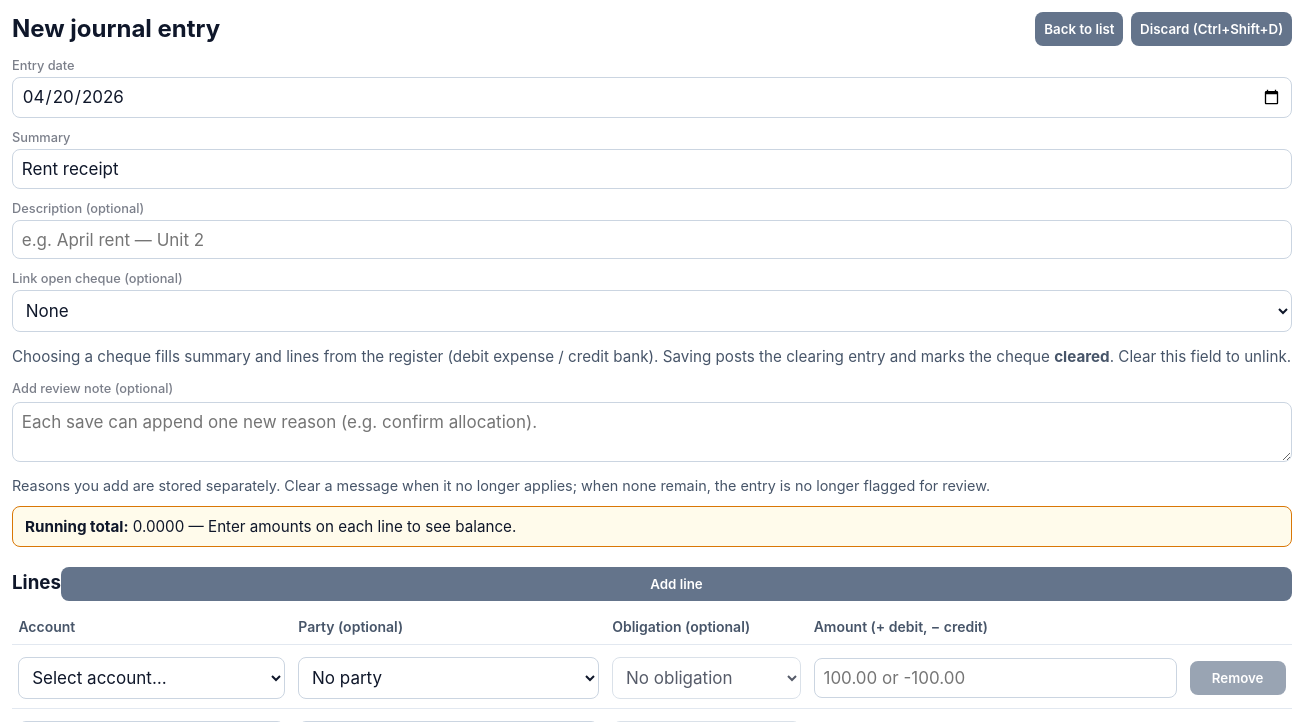
Scenario: JournalEntryForm › manual obligation settlement (#272) › locks account and party while obligation is set
Select "Rental income" in the dropdown named "Account for line 1781842148458-v530ew2": (152, 678) x1=18 y1=657 x2=286 y2=699
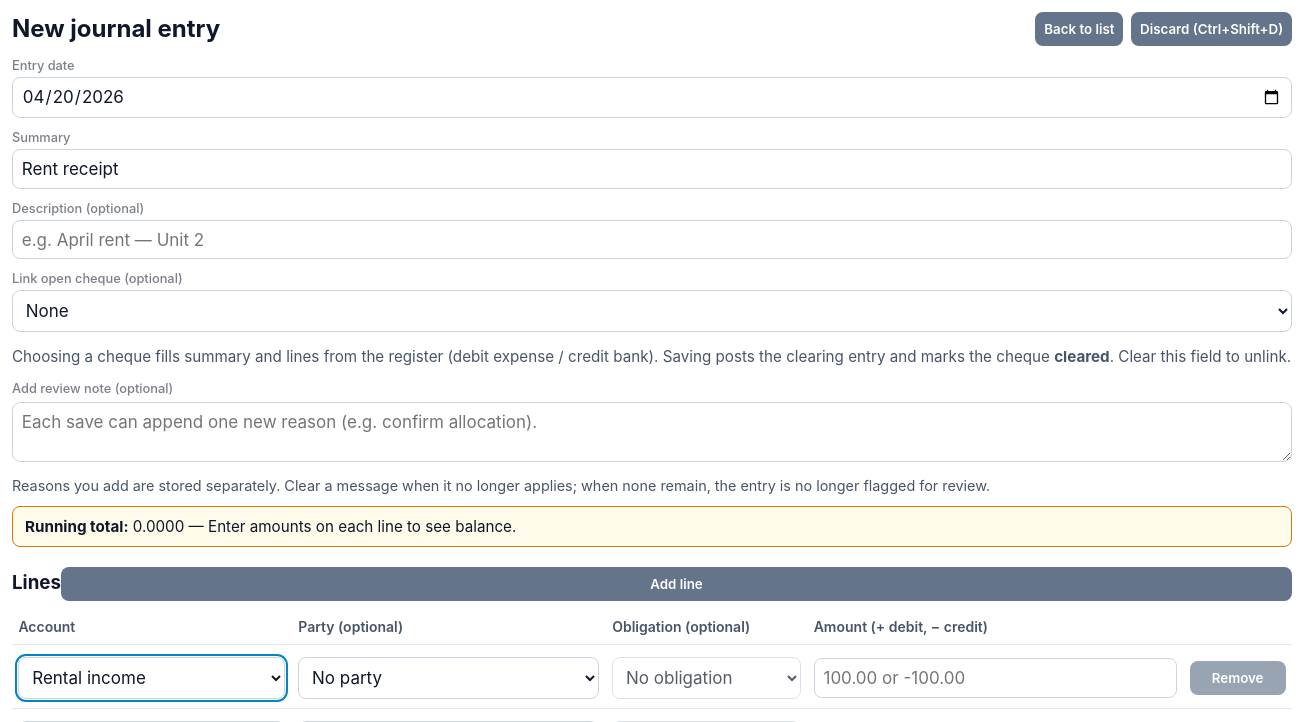
Select "Acme Yard Maintenance" in the dropdown named "Party for line 1781842148458-v530ew2": (449, 678) x1=298 y1=657 x2=599 y2=699
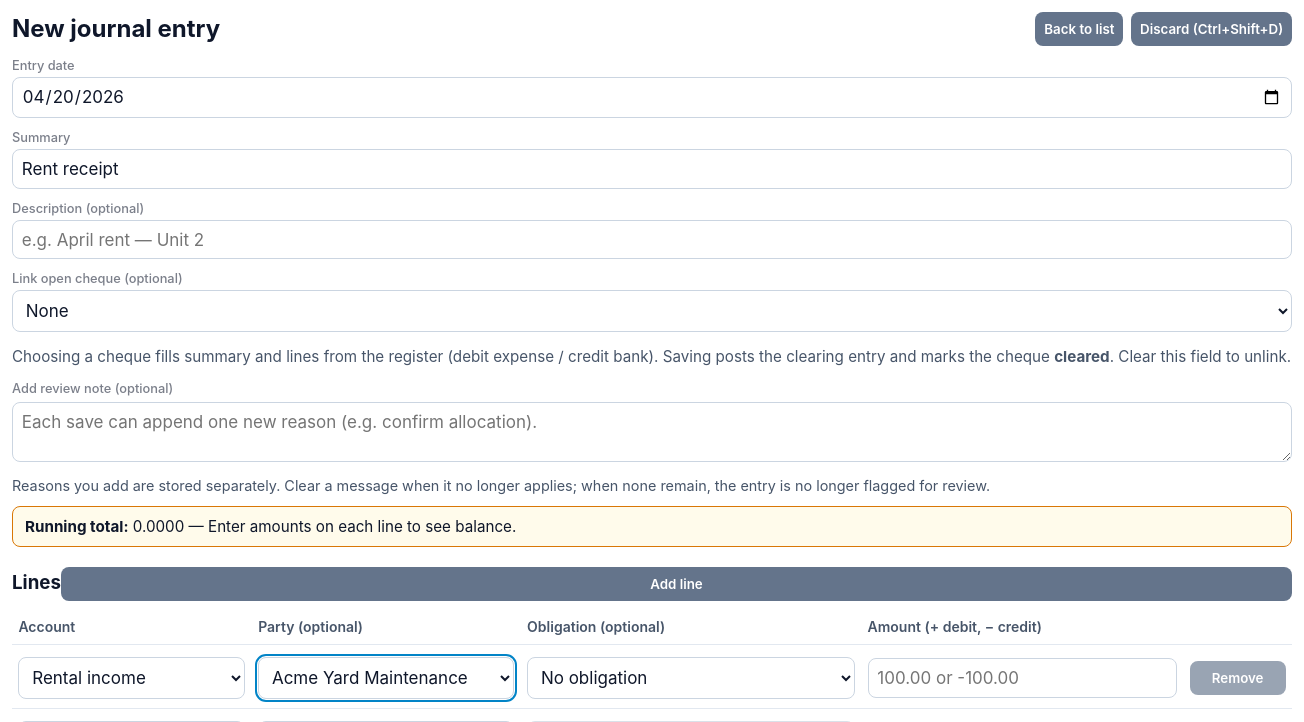
Select "#55 — March rent (100.00 open)" in the dropdown named "Obligation for line 1781842148458-v530ew2": (691, 678) x1=527 y1=657 x2=855 y2=699
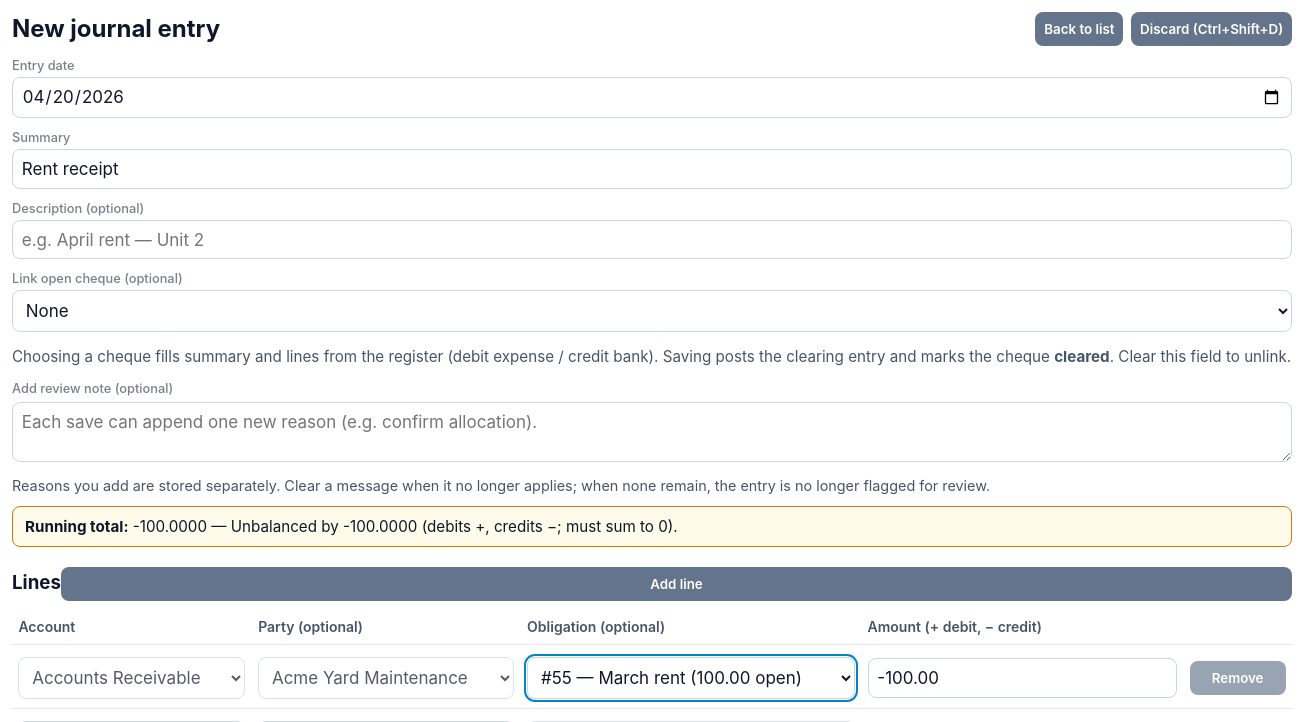
Now the dropdown named "Account for line 1781842148458-v530ew2" is disabled, box x1=18 y1=657 x2=245 y2=699
Now the dropdown named "Party for line 1781842148458-v530ew2" is disabled, box x1=258 y1=657 x2=514 y2=699
Now the field with placeholder "100.00 or -100.00" holds "-100.00", box x1=868 y1=658 x2=1177 y2=698
